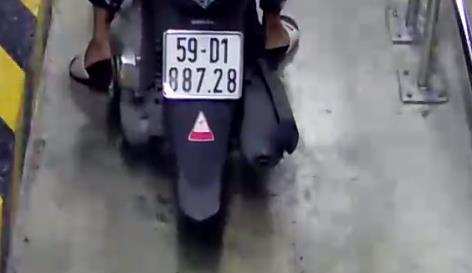lisence: (161, 29, 243, 98)
